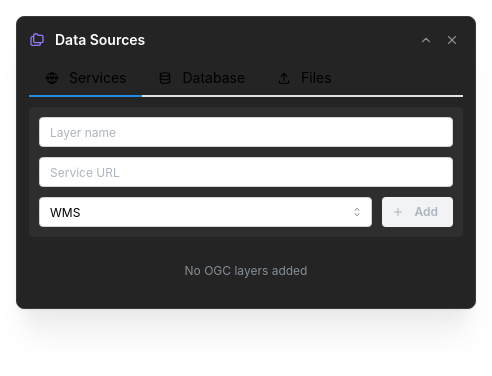
it: DataSourcesPanel › adds an OGC service from the services tab
In the field with placeholder "Layer name": (246, 132) left=39, top=117, right=453, bottom=147, type "roads"
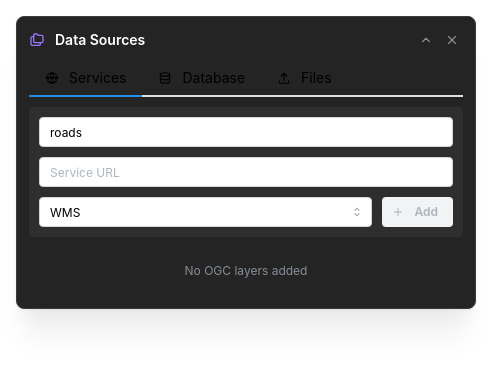
In the field with placeholder "Service URL": (246, 172) left=39, top=157, right=453, bottom=187, type "https://maps.example/wms"
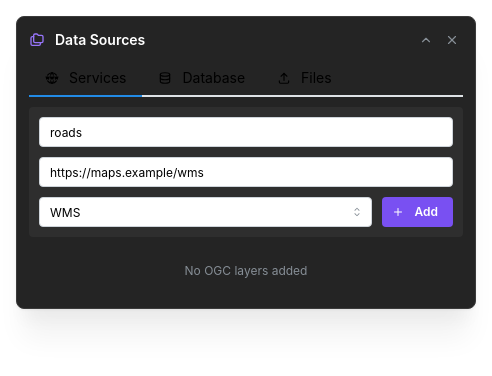
Click the button "Add": (418, 212) left=382, top=197, right=453, bottom=227
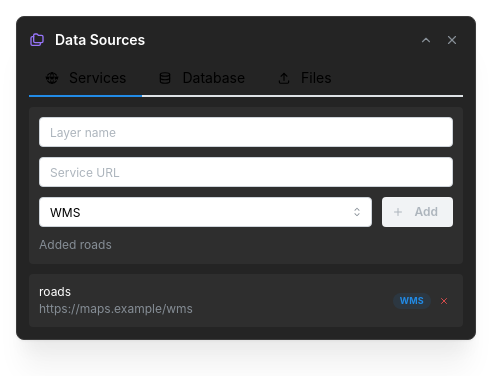
Check: the text "https://maps.example/wms" is shown, box left=39, top=301, right=193, bottom=317
